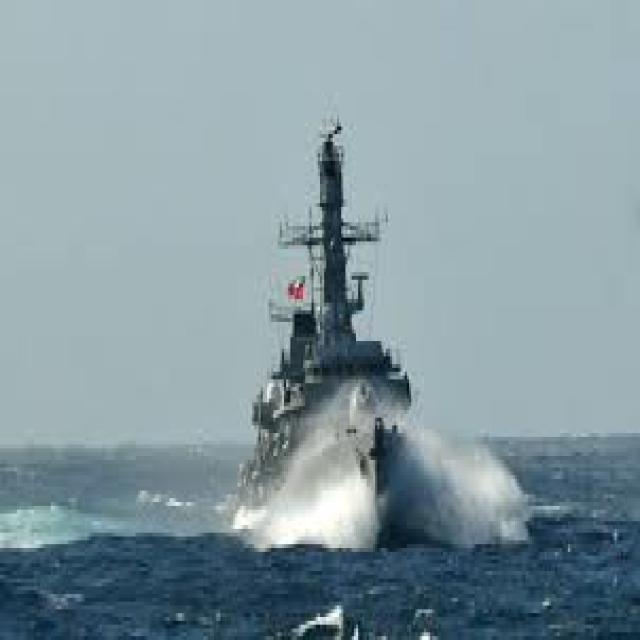navalvessels: (232, 106, 506, 564)
